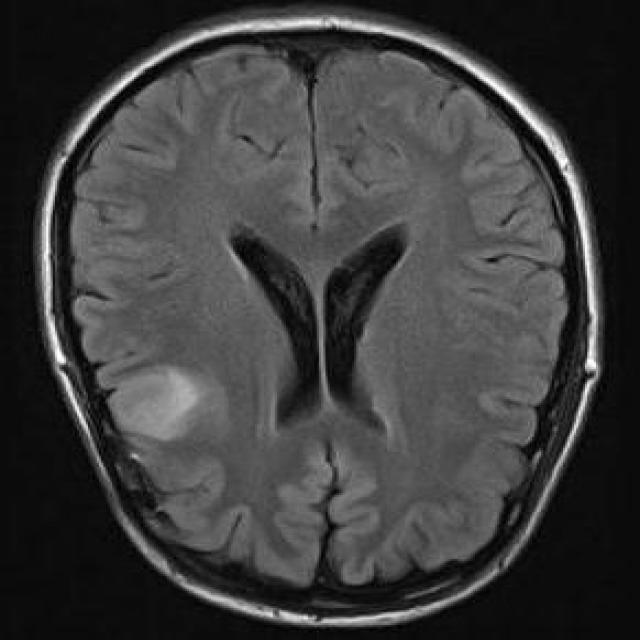Tumor-Cell: (89, 326, 234, 480)
